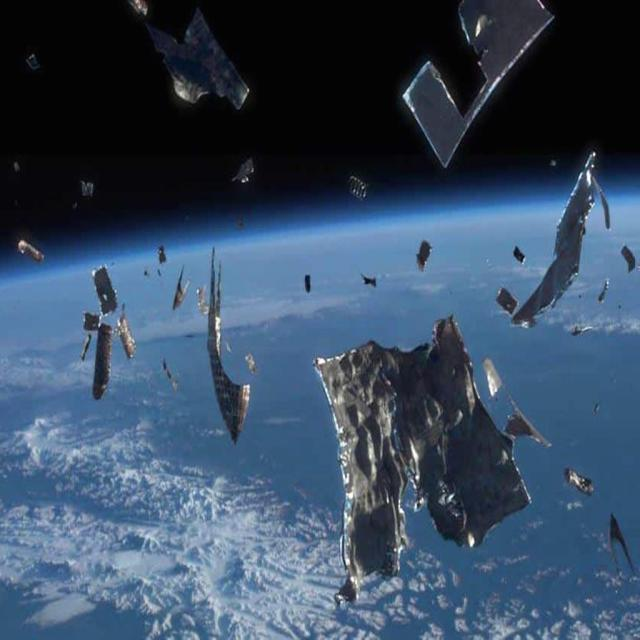large_debris: (316, 311, 535, 603), (403, 0, 554, 171), (512, 152, 594, 326), (148, 12, 251, 109), (207, 245, 251, 447), (505, 394, 551, 444), (608, 513, 636, 578), (90, 322, 112, 400), (89, 267, 120, 316), (170, 262, 194, 308), (480, 356, 506, 396), (117, 313, 138, 362), (17, 237, 47, 265), (564, 471, 595, 497), (495, 286, 518, 318), (164, 357, 181, 397), (620, 239, 638, 276), (349, 175, 371, 204), (415, 239, 432, 275), (237, 154, 255, 186), (512, 240, 530, 266), (597, 274, 609, 312), (572, 320, 594, 340), (154, 242, 170, 269), (79, 177, 96, 202), (79, 331, 92, 363), (197, 286, 210, 317), (245, 349, 261, 374), (84, 309, 102, 331), (131, 0, 149, 17), (359, 275, 378, 290), (26, 52, 41, 70), (303, 274, 313, 300), (594, 401, 604, 413), (14, 158, 22, 172)
